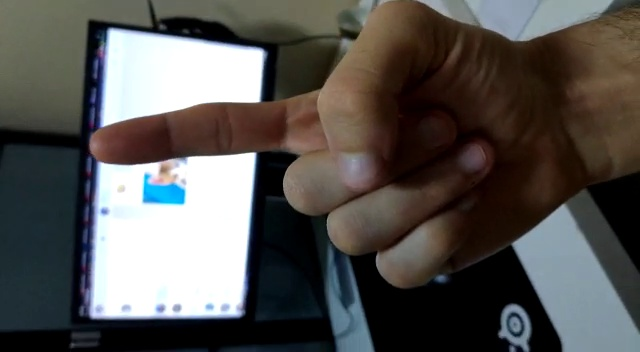One: (58, 1, 612, 322)
